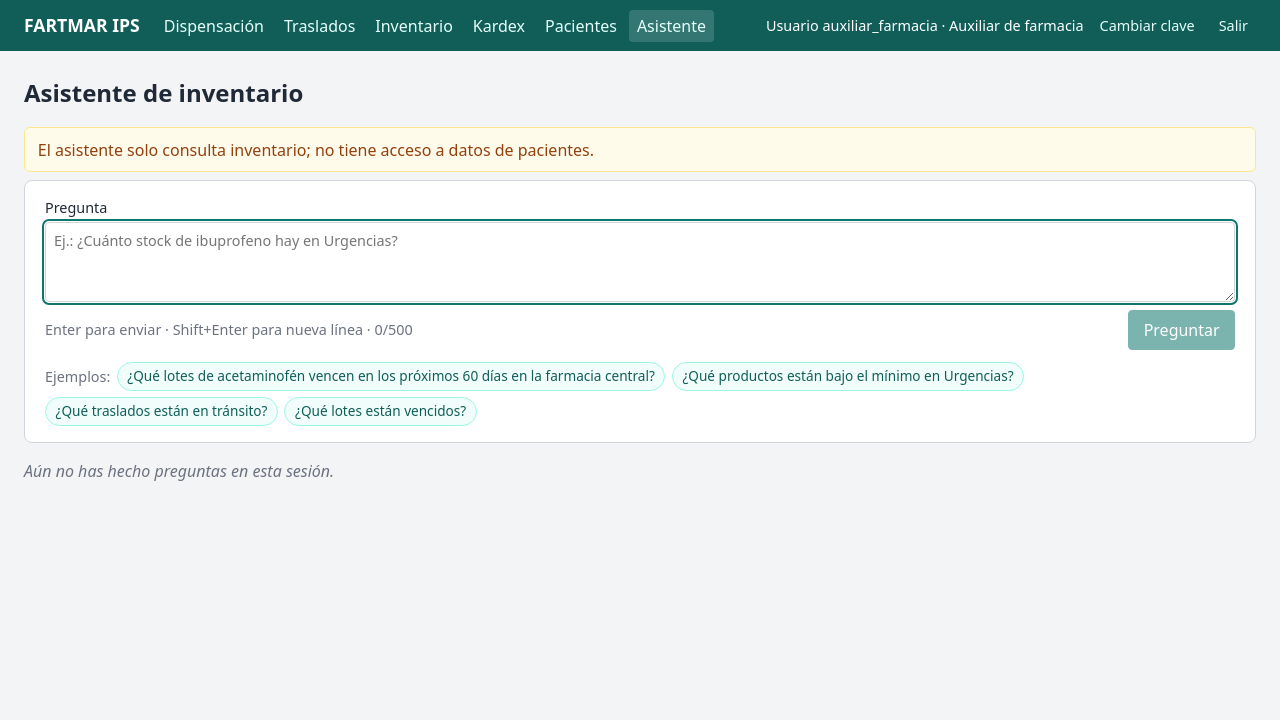
Test: Asistente IA › 503 ASISTENTE_NO_DISPONIBLE muestra un mensaje comprensible con el código de soporte y conserva la pregunta
In the text box labelled "Pregunta": (640, 262) [45,222,1235,302], type "¿Qué lotes de acetaminofén vencen en los próximos 60 días en la farmacia central?"
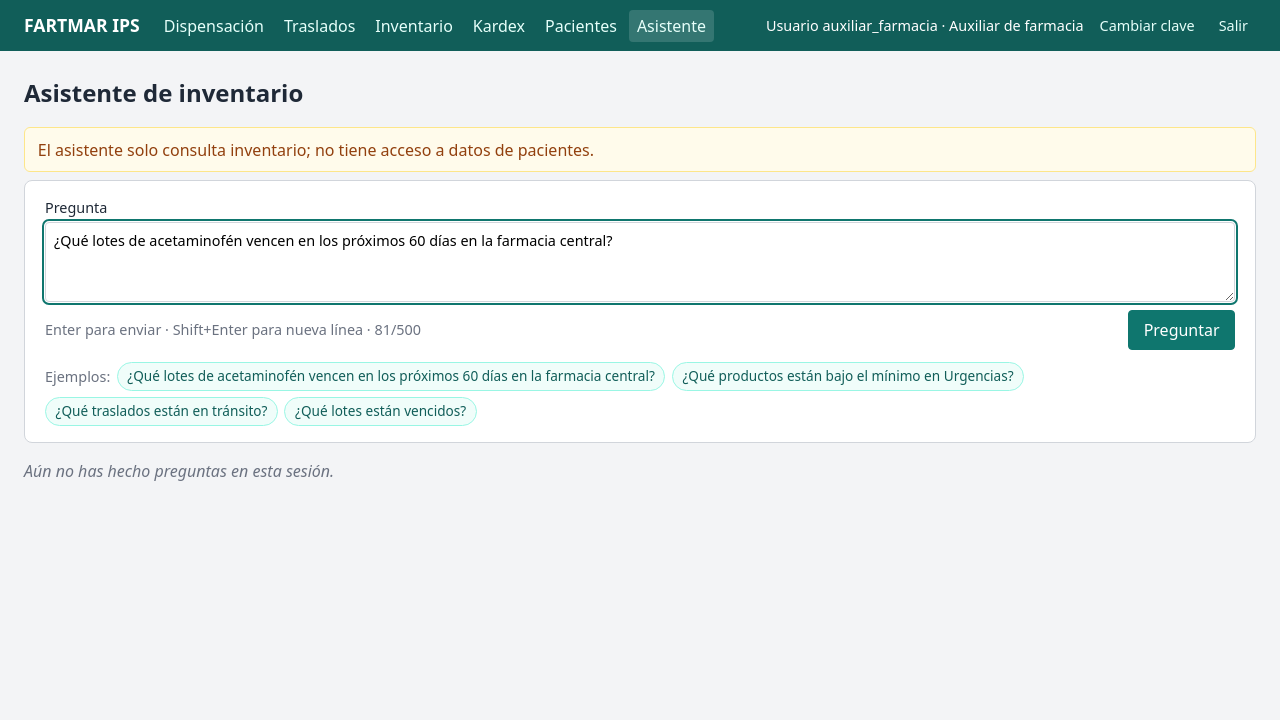
Click the button "Preguntar": (1182, 330) [1128,310,1235,350]
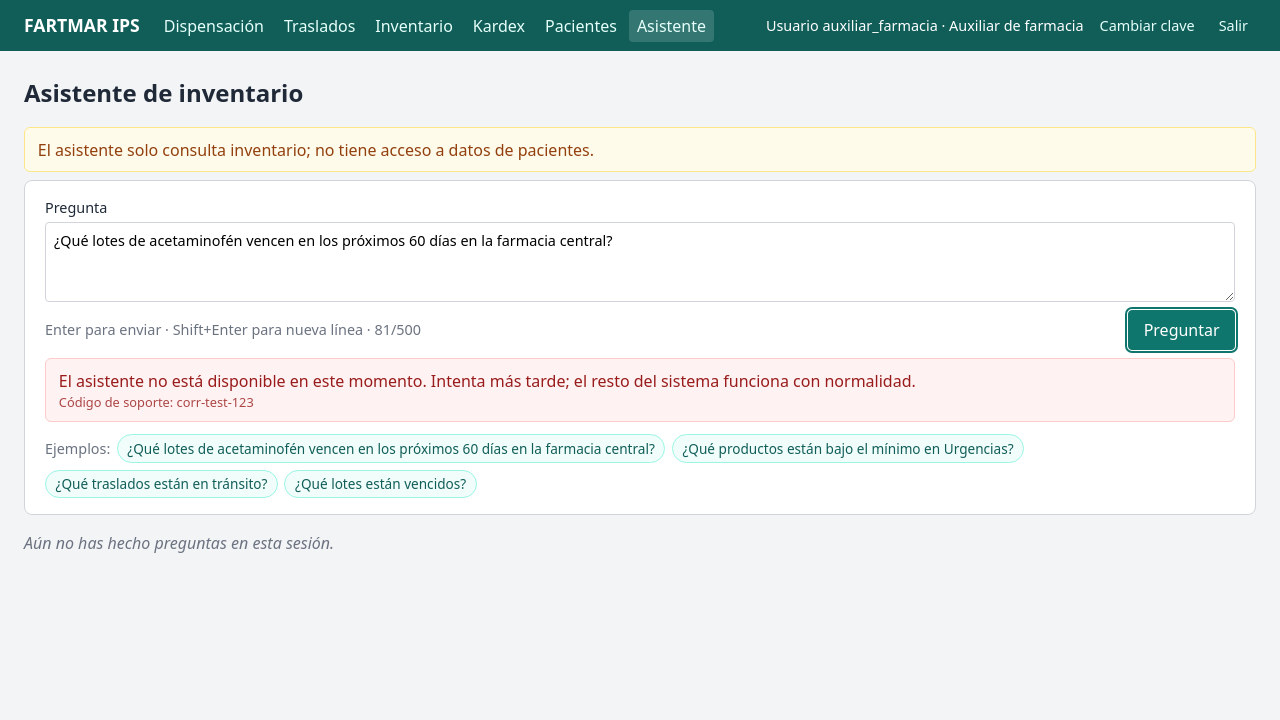
Check: the button "Preguntar" is enabled, box [1128,310,1235,350]
Check: the message shows "El asistente no está disponible en este momento. Intenta más tarde", box [59,370,916,392]
Check: the message shows "Código de soporte: corr-test-123", box [45,358,1235,422]
